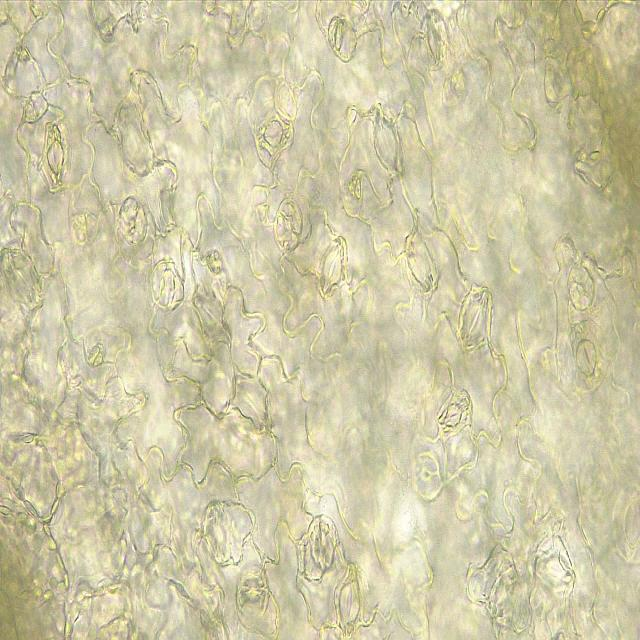Stomata: (563, 313, 611, 397), (434, 382, 478, 444), (400, 232, 441, 298), (458, 284, 494, 354), (368, 110, 405, 177), (203, 496, 236, 569), (334, 568, 367, 636), (316, 234, 351, 298), (614, 481, 640, 567), (40, 122, 71, 191), (418, 7, 450, 71), (272, 194, 306, 254), (409, 451, 445, 505), (234, 567, 271, 618), (116, 192, 149, 249), (258, 110, 297, 156), (564, 261, 598, 313), (149, 254, 178, 311)
